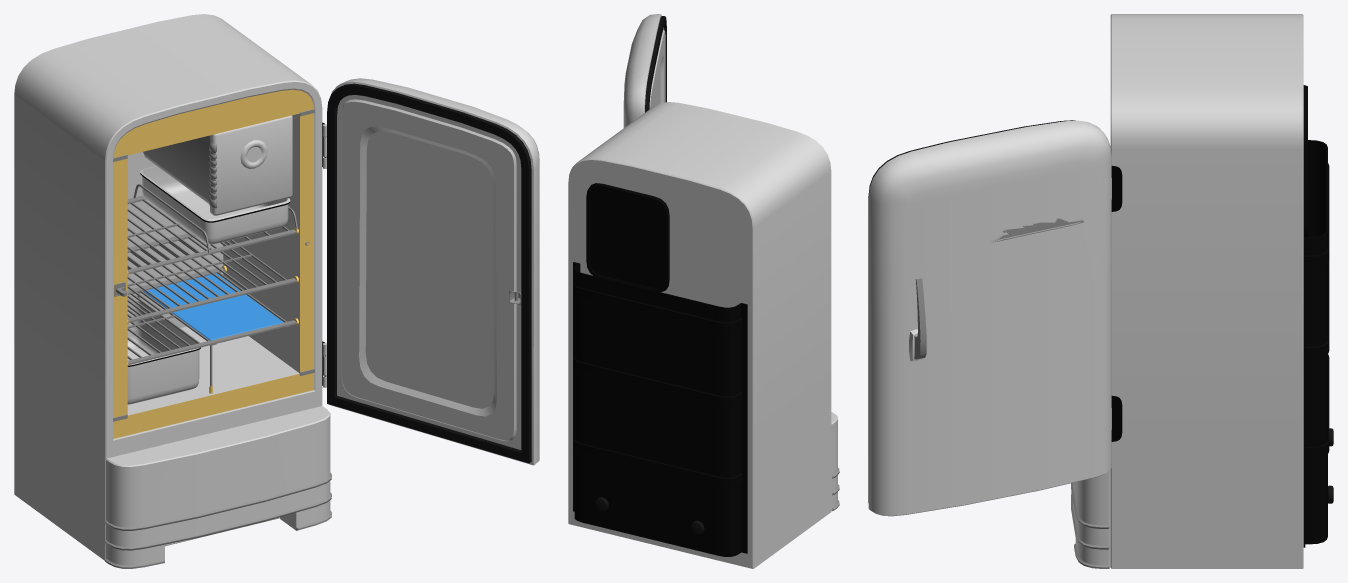
The model's file is Refr.fbx.
The picture shows the model from 3 angles, left to right: view 1: azimuth 30°, elevation 25°; view 2: azimuth 150°, elevation 25°; view 3: azimuth 270°, elevation 25°; orthographic projection. The views are drawn at different scales.
Parts seen in each view (by area): view 1: Box020, Door, Bottom, Cylinder003, Box030, Box031, Box037, Box033, Box032, Box027, Box034, Object027; view 2: Box020, Box017, Box018, Door, Object022, Object023, Object024, Bottom; view 3: Box020, Door, Box017, Bottom, Box009, Box018, Line001, Object027.
Boxes of the visible parts, x1,y1,x2,y2 form: Box020: [14, 14, 322, 560]; Door: [327, 78, 539, 465]; Bottom: [106, 406, 330, 565]; Cylinder003: [209, 115, 292, 215]; Box030: [140, 166, 290, 244]; Box031: [127, 300, 200, 404]; Box037: [143, 273, 283, 340]; Box033: [127, 232, 296, 322]; Box032: [127, 267, 296, 365]; Box027: [143, 135, 209, 203]; Box034: [127, 195, 296, 274]; Object027: [105, 473, 331, 568]; Box020: [568, 102, 831, 568]; Box017: [573, 262, 747, 556]; Box018: [586, 183, 669, 292]; Door: [623, 14, 666, 127]; Object022: [573, 282, 742, 332]; Object023: [573, 356, 742, 406]; Object024: [573, 437, 742, 487]; Bottom: [831, 412, 837, 511]; Box020: [1110, 14, 1303, 568]; Door: [868, 120, 1111, 516]; Box017: [1303, 140, 1327, 547]; Bottom: [1073, 470, 1110, 568]; Box009: [1111, 165, 1122, 441]; Box018: [1303, 85, 1307, 237]; Line001: [990, 218, 1083, 242]; Object027: [1071, 483, 1109, 568].
Size of the model in its own units: 107 by 133 by 122.
